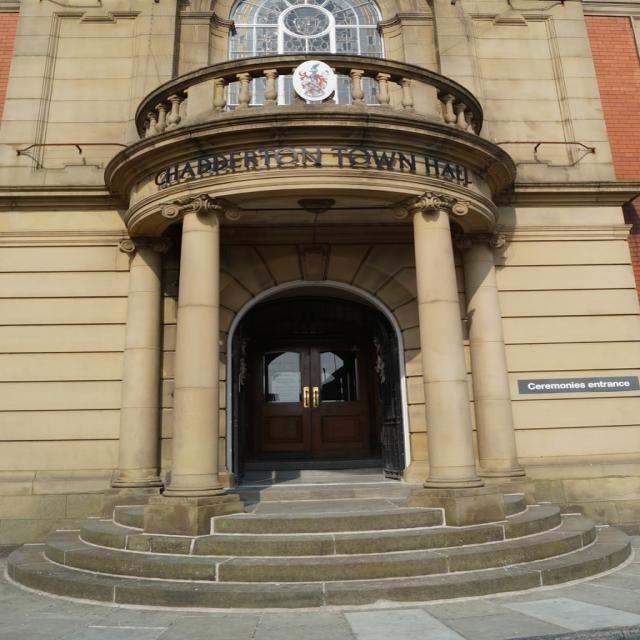door: (222, 276, 416, 489)
